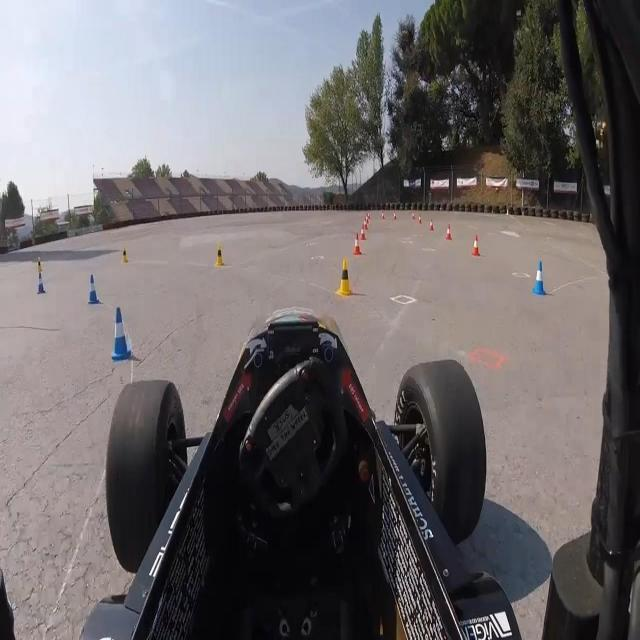blue_cone: (110, 302, 132, 362), (531, 260, 548, 297), (87, 273, 99, 306), (36, 269, 47, 296)
orange_cone: (352, 232, 362, 256), (470, 234, 480, 256), (444, 222, 452, 240), (359, 223, 366, 241), (362, 216, 368, 230), (428, 218, 434, 231), (417, 214, 422, 224)
yellow_cone: (336, 258, 354, 298), (214, 242, 224, 268), (121, 246, 129, 264), (36, 255, 43, 274)
